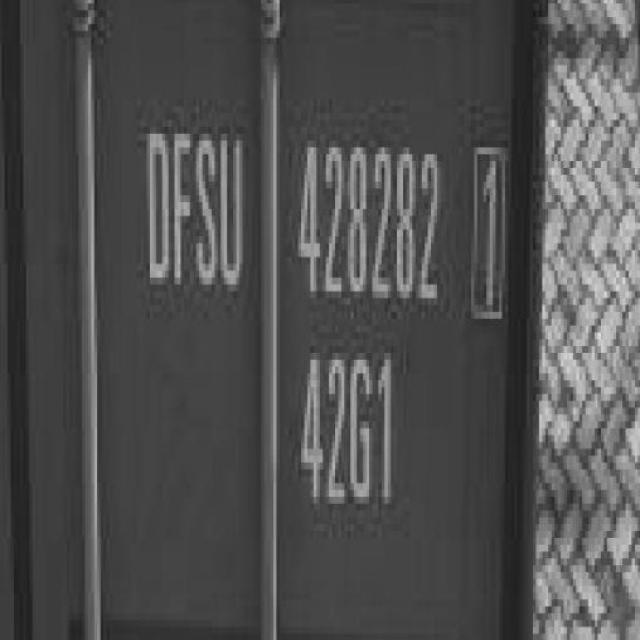dv: (459, 139, 516, 324)
owner: (127, 124, 250, 291)
serial: (293, 128, 451, 313)
size: (296, 342, 406, 516)
